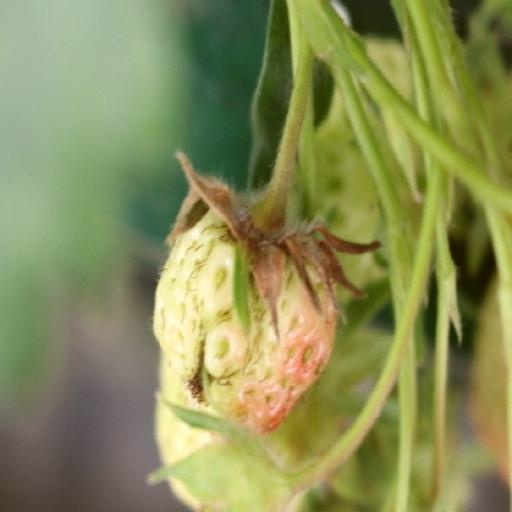Gray Mold: (130, 149, 349, 346)
